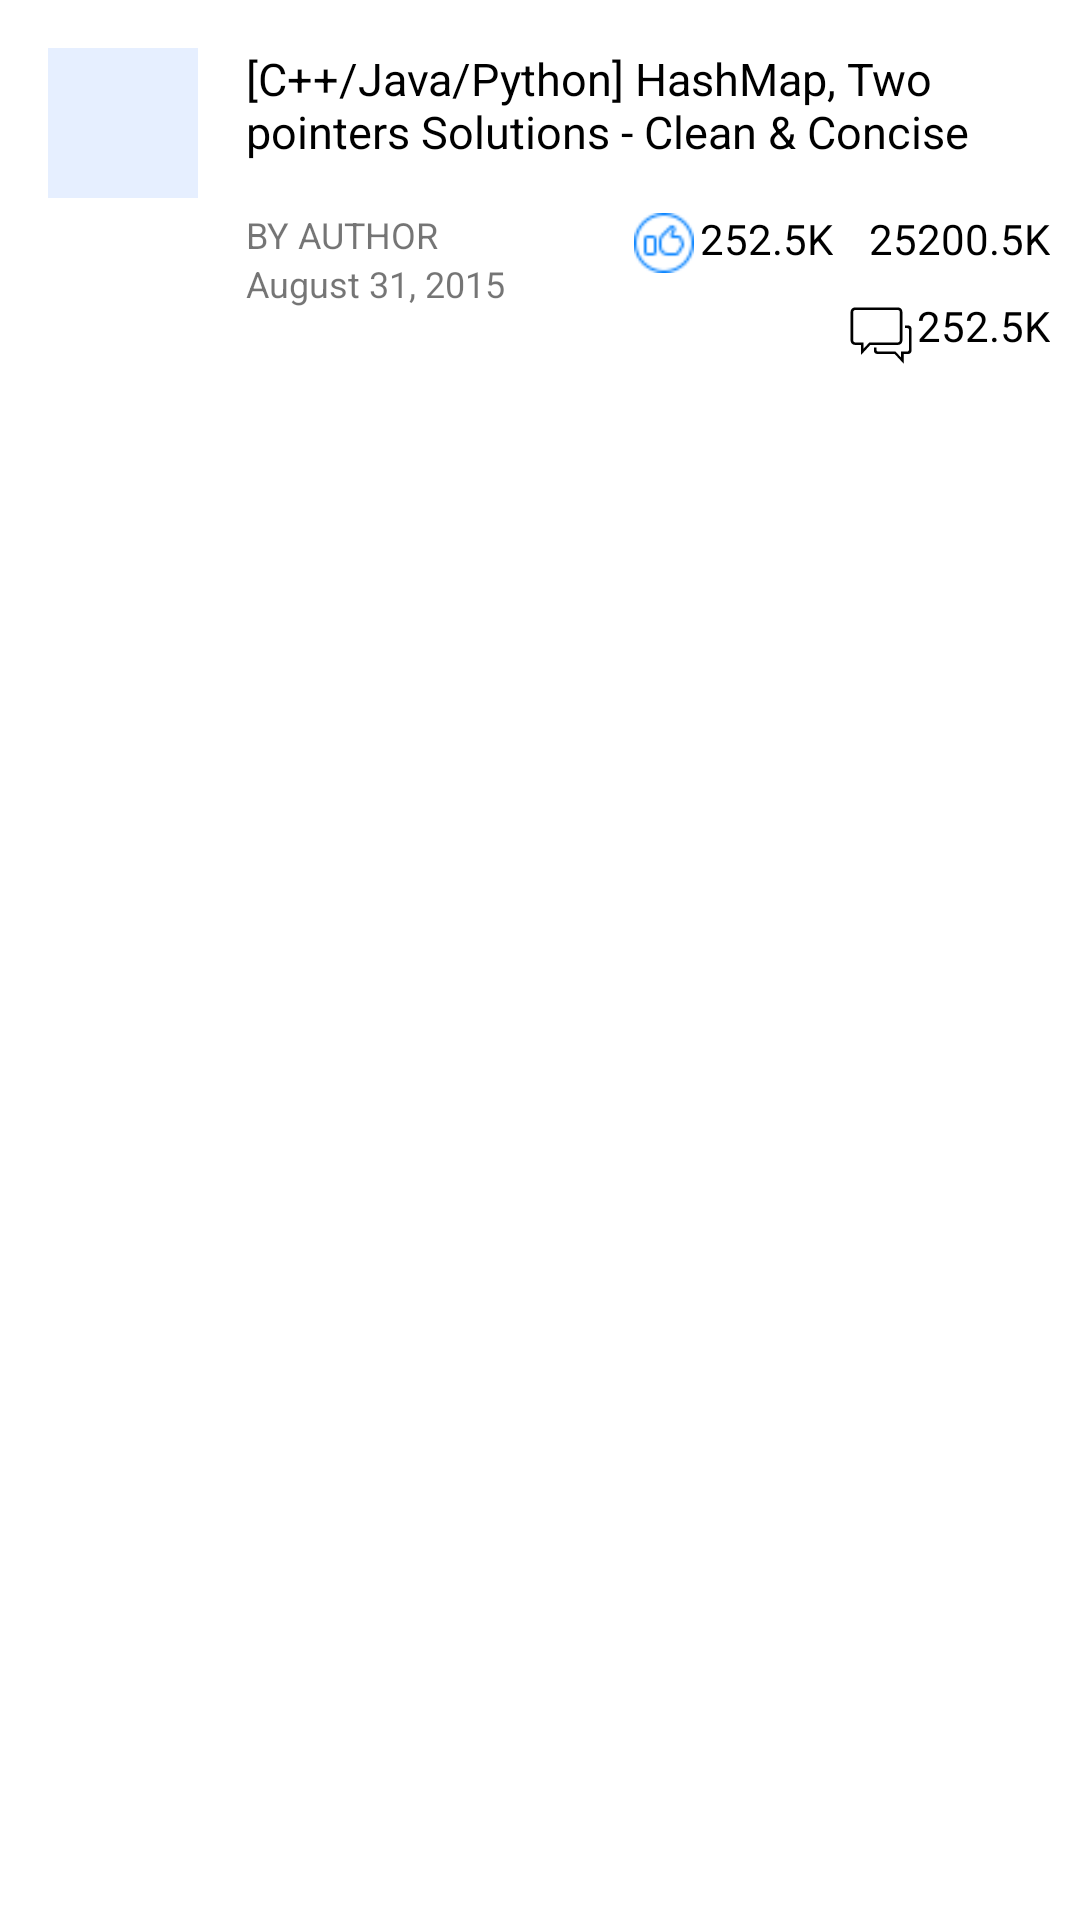

Screen size 1080w x 1920h. Icon name, then its box in pixels as (x1, y1, x2, y2):
like: (634, 213, 694, 273)
